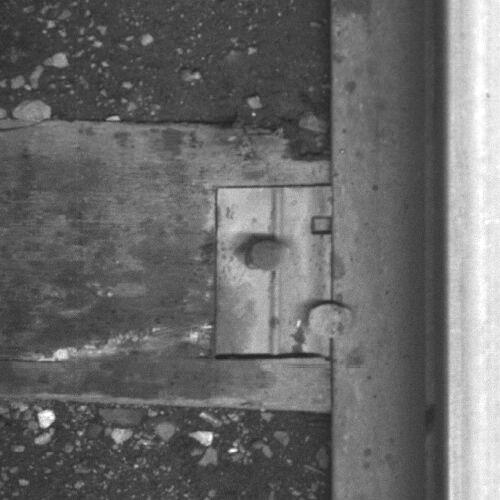do: (216, 185, 353, 356)
rail: (445, 1, 500, 500)
tie_wood: (1, 123, 332, 412)
